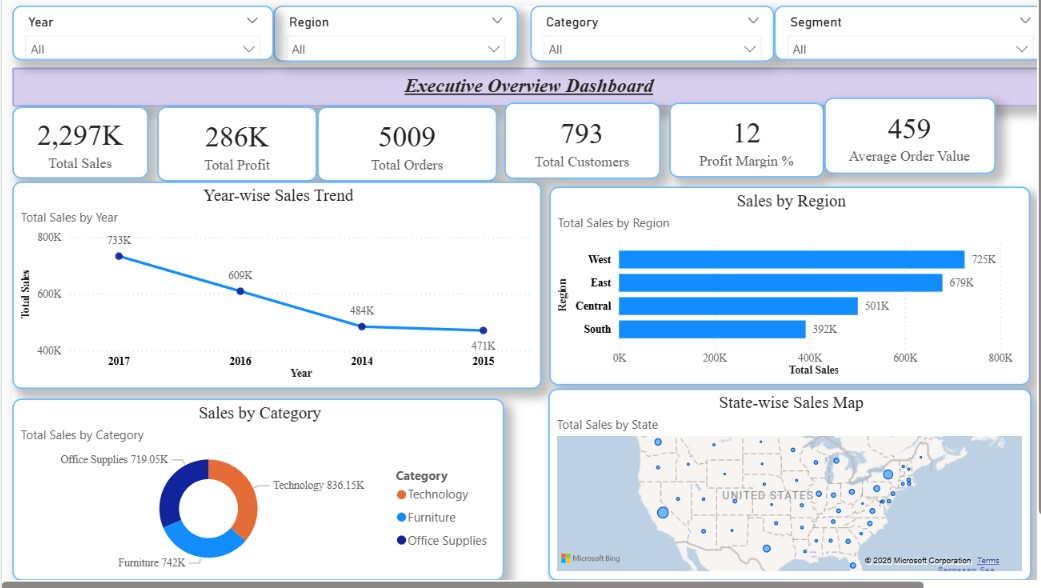

The dashboard page shown, as its layout file describes it:
{"tool":"powerbi","page":{"name":"Executive Overview Dashboard","canvas":[1280,720],"ordinal":0},"visuals":[{"type":"textbox","box":[0,68.9,1148.9,43.3],"z":0},{"type":"card","fields":{"Values":["Sample - Superstore.Total Sales"]},"box":[0,112.2,151.1,80],"z":1000},{"type":"card","fields":{"Values":["Sample - Superstore.Total Profit"]},"box":[161.1,112.2,177.8,83.3],"z":2000},{"type":"card","fields":{"Values":["Sample - Superstore.Total Orders"]},"box":[338.9,112.2,200,83.3],"z":3000},{"type":"card","fields":{"Values":["Sample - Superstore.Total Customers"]},"box":[546.7,107.8,173.3,84.4],"z":4000},{"type":"card","fields":{"Values":["Sample - Superstore.Profit Margin %"]},"box":[730,107.8,172.2,83.3],"z":5000},{"type":"card","fields":{"Values":["Sample - Superstore.Average Order Value"]},"box":[902.2,102.2,190,84.4],"z":6000},{"type":"lineChart","title":"Year-wise Sales Trend","fields":{"Category":["Dim_Date.Year"],"Y":["Sample - Superstore.Total Sales"]},"box":[0,195.6,587.8,230],"z":7000},{"type":"donutChart","title":"Sales by Category","fields":{"Category":["Sample - Superstore.Category"],"Y":["Sample - Superstore.Total Sales"]},"box":[0,436.7,546.7,202.2],"z":8000},{"type":"clusteredBarChart","title":"Sales by Region","fields":{"Category":["Sample - Superstore.Region"],"Y":["Sample - Superstore.Total Sales"]},"box":[596.7,201.1,534.4,221.1],"z":9000},{"type":"map","title":"State-wise Sales Map","fields":{"Category":["Sample - Superstore.State"],"Size":["Sample - Superstore.Total Sales"]},"box":[595.6,425.6,536.7,213.3],"z":10000},{"type":"slicer","fields":{"Values":["Sample - Superstore.Region"]},"box":[290,0,272.2,62.2],"z":11000},{"type":"slicer","fields":{"Values":["Dim_Date.Year"]},"box":[0,0,290,61.1],"z":12000},{"type":"slicer","fields":{"Values":["Sample - Superstore.Category"]},"box":[575.6,0,271.1,62.2],"z":13000},{"type":"slicer","fields":{"Values":["Sample - Superstore.Segment"]},"box":[846.7,0,302.2,61.1],"z":14000}]}

Visuals, with their boxes in screenshot pixels (x1, y1, x2, y2), scaled from the page's 1280x720 canvas onto the 1041x588 screenshot:
textbox: detection(0, 56, 934, 92)
card - Sample - Superstore.Total Sales: detection(0, 92, 123, 157)
card - Sample - Superstore.Total Profit: detection(131, 92, 276, 160)
card - Sample - Superstore.Total Orders: detection(276, 92, 438, 160)
card - Sample - Superstore.Total Customers: detection(445, 88, 586, 157)
card - Sample - Superstore.Profit Margin %: detection(594, 88, 734, 156)
card - Sample - Superstore.Average Order Value: detection(734, 83, 888, 152)
"Year-wise Sales Trend" lineChart: detection(0, 160, 478, 348)
"Sales by Category" donutChart: detection(0, 357, 445, 522)
"Sales by Region" clusteredBarChart: detection(485, 164, 920, 345)
"State-wise Sales Map" map: detection(484, 348, 921, 522)
slicer - Sample - Superstore.Region: detection(236, 0, 457, 51)
slicer - Dim_Date.Year: detection(0, 0, 236, 50)
slicer - Sample - Superstore.Category: detection(468, 0, 689, 51)
slicer - Sample - Superstore.Segment: detection(689, 0, 934, 50)
